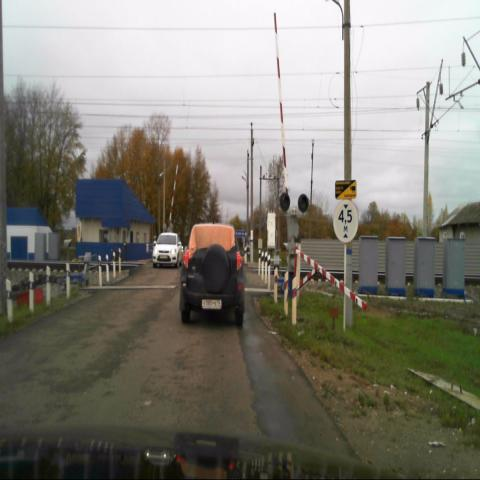3_13: (334, 199, 360, 245)
